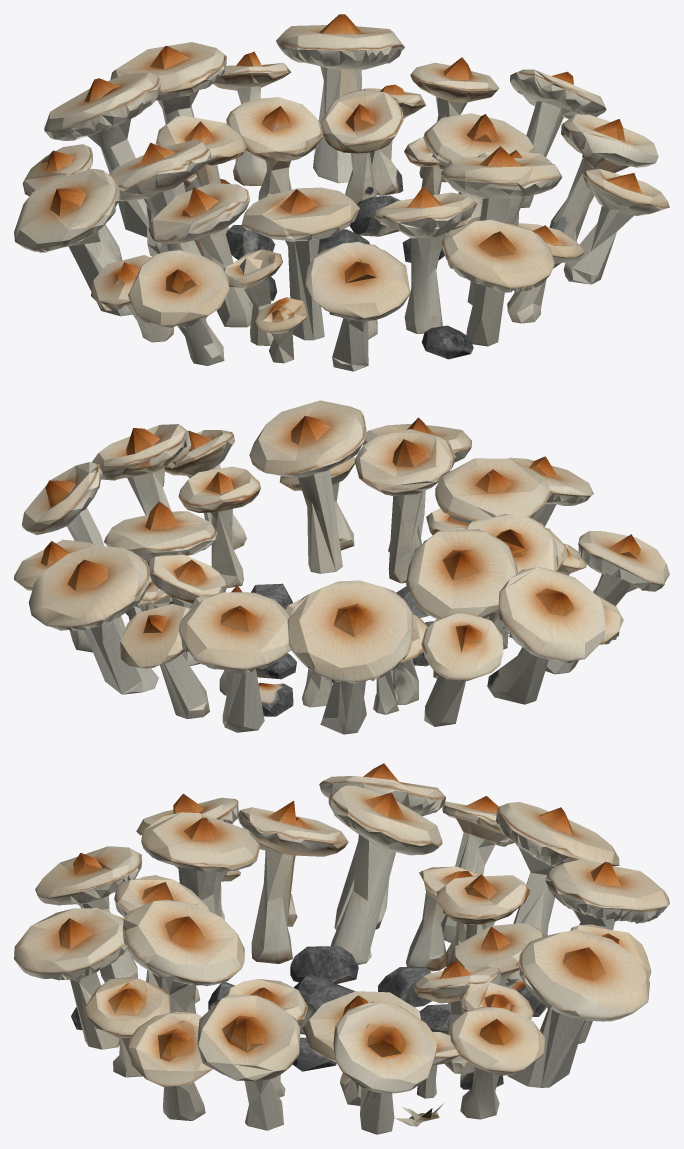
The model's file is mushroom_ring.glb.
The picture shows the model from 3 angles, top to bottom: view 1: azimuth 30°, elevation 25°; view 2: azimuth 150°, elevation 25°; view 3: azimuth 270°, elevation 25°; orthographic projection. The views are drawn at different scales.
Size of the model in its own units: 1.9 by 0.4735 by 1.8.
Materials: 1 (1 with a texture image).
